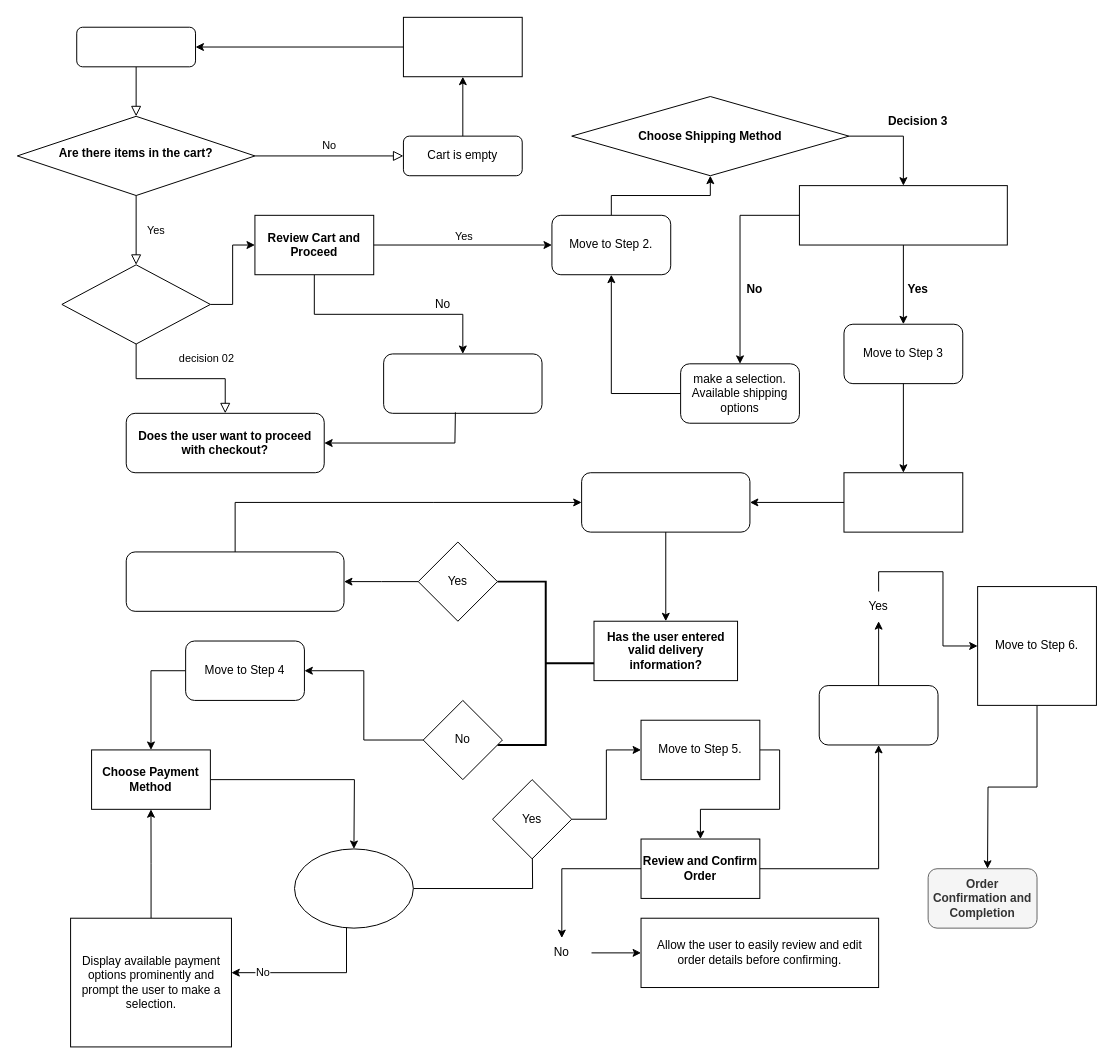
Image size: 1114x1064. Some labels were removed from this diagram. The shapes that lost their labels are listed below. From the top down, each one's centre as x and y in pixels, then its label:
(136,46): e-commerce checkout process
(462,46): Products
(902,215): Has the user selected a shipping method?
(135,304): Proceed to Step 1.
(462,383): Allow the user to continue shopping or edit cart items without losing progress.
(665,502): delivery information, including name, address, and contact details.
(903,502): Enter Delivery Information
(234,581): correct address details and verify accuracy before proceeding.
(878,715): Does the user confirm the order?
(353,888): Has the user selected a payment method?
